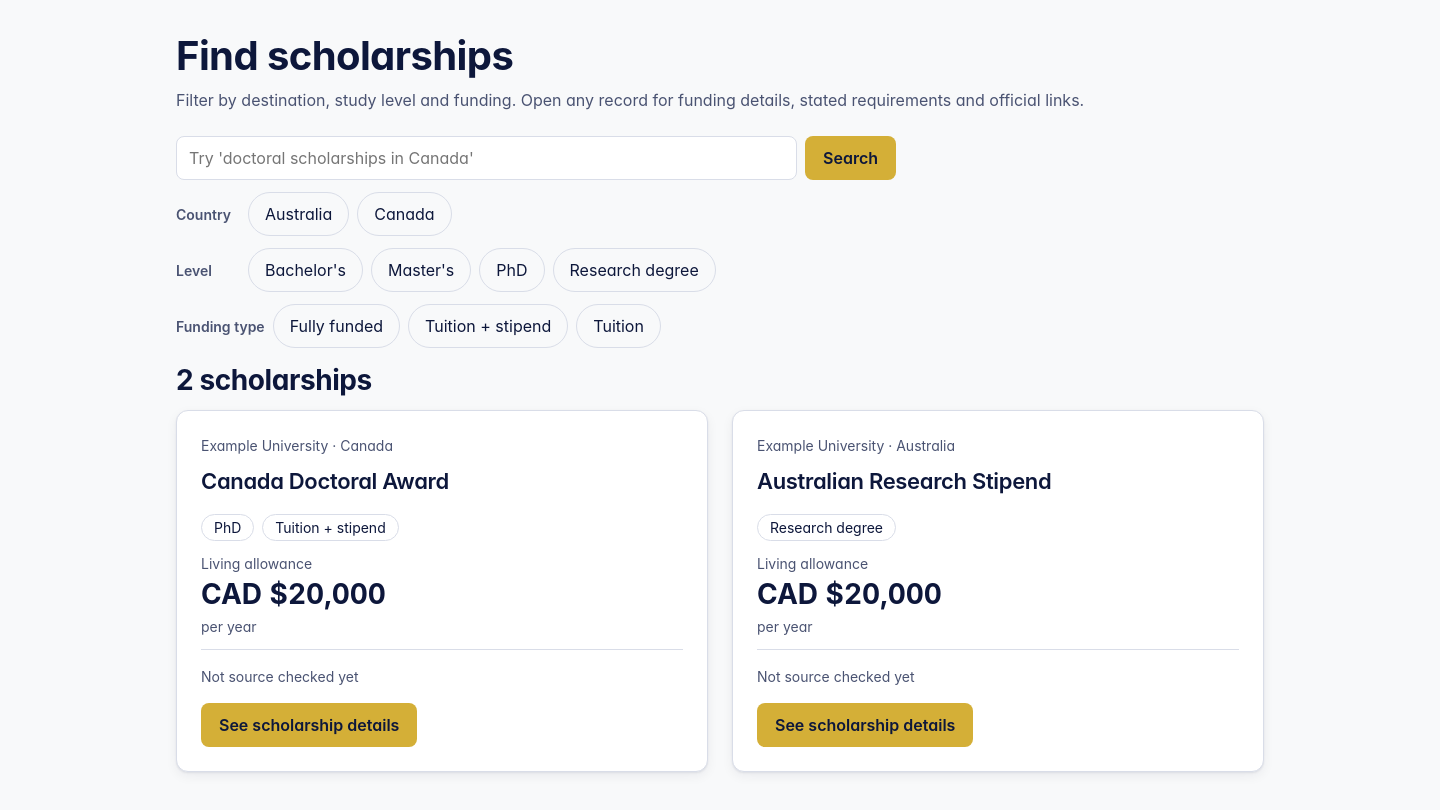
ExplorePage › narrows the list when a country filter chip is toggled
The width and height of the screenshot is (1440, 810).
Click the button "Australia": (299, 214) [248,192,349,236]
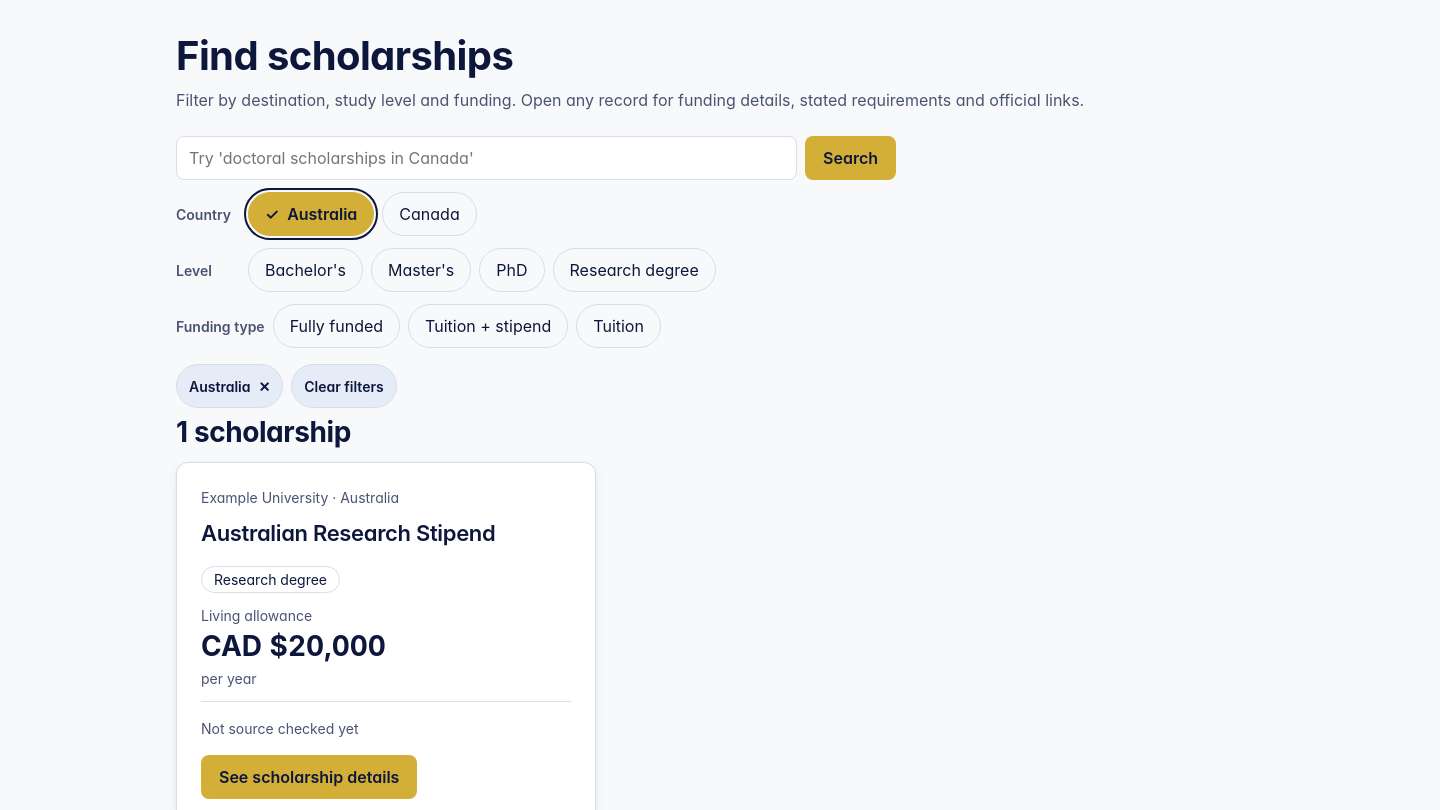
Expected: the heading "Australian Research Stipend" is shown, [201,520,495,546]
Result: the heading "1 scholarship" is shown at [176,415,351,449]
Result: the link "Canada Doctoral Award" is gone
